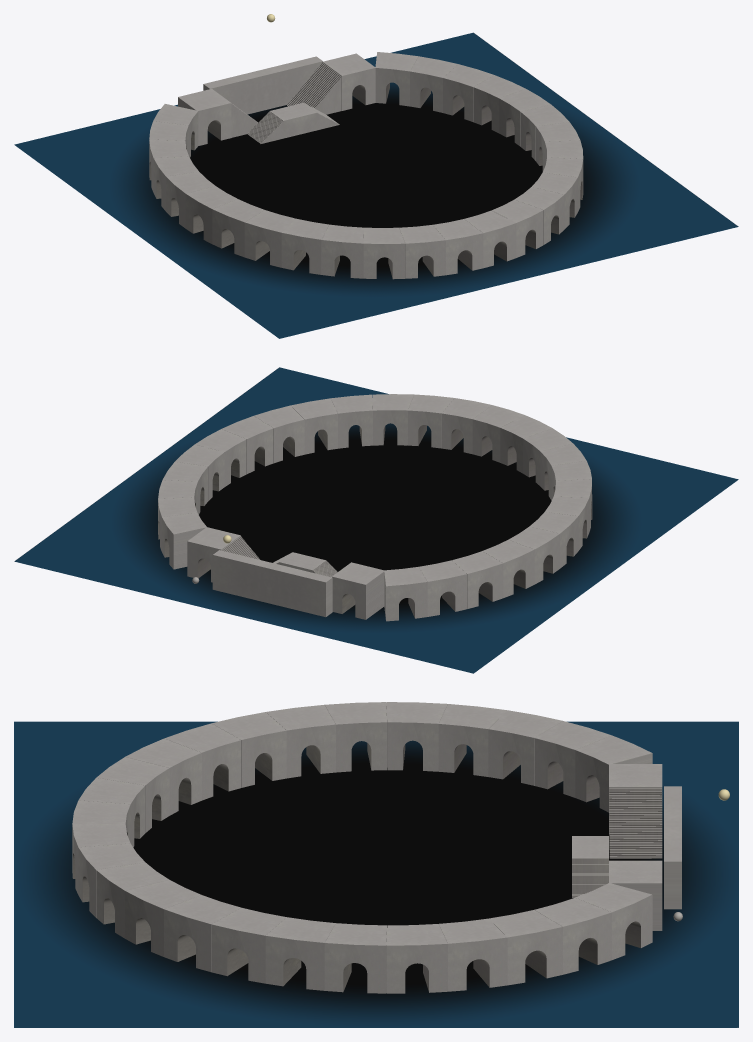
The model's file is auclaire de.obj.
3 renders of one model, top to bottom at view 1: azimuth 30°, elevation 25°; view 2: azimuth 150°, elevation 25°; view 3: azimuth 270°, elevation 25°, orthographic. The views are drawn at different scales.
Parts seen in each view (by area): view 1: nowy.001_Mesh; view 2: nowy.001_Mesh; view 3: nowy.001_Mesh.
Part boxes in pixels (<box>): nowy.001_Mesh: <box>14,14,738,338</box>; nowy.001_Mesh: <box>14,367,738,673</box>; nowy.001_Mesh: <box>14,702,738,1027</box>.
Size of the model in its own units: 61.81 by 9.6 by 61.81.
